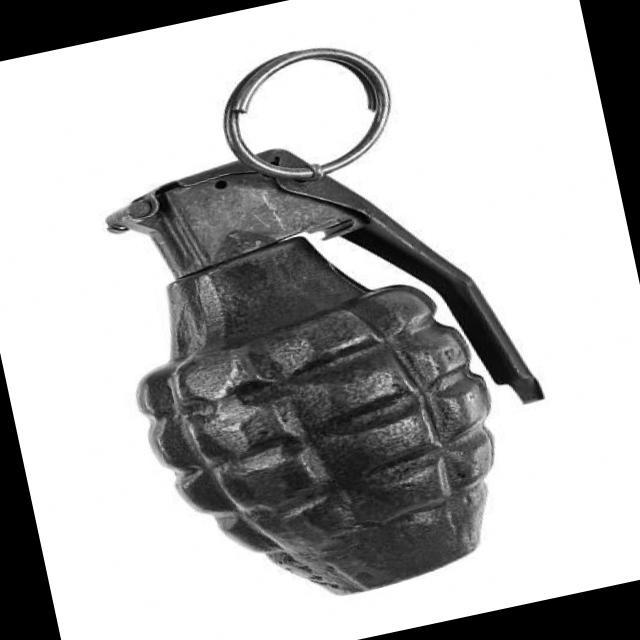grenade: (80, 21, 582, 633)
